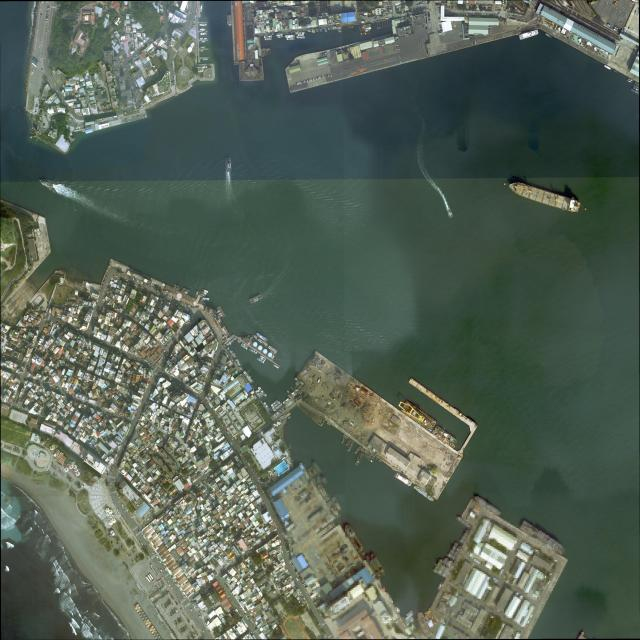large-vehicle: (149, 574, 154, 580), (32, 60, 37, 65), (33, 58, 38, 63), (148, 575, 152, 581), (32, 63, 37, 67), (146, 577, 150, 582), (613, 28, 617, 32), (296, 578, 299, 581), (160, 569, 163, 572), (203, 630, 205, 633), (190, 609, 192, 611)
ship: (507, 179, 581, 214), (432, 429, 456, 449), (434, 425, 458, 444), (413, 485, 435, 502), (394, 471, 412, 487), (519, 29, 539, 40), (37, 177, 53, 189), (346, 439, 355, 453), (256, 332, 268, 342), (249, 295, 262, 303), (258, 386, 267, 397), (364, 453, 373, 463), (273, 403, 282, 412), (360, 447, 370, 455), (271, 401, 280, 409), (270, 399, 279, 407), (354, 446, 362, 454), (263, 402, 270, 411), (311, 355, 318, 364), (359, 25, 364, 37), (227, 15, 232, 27), (226, 158, 230, 172), (257, 357, 265, 364), (255, 390, 262, 398), (604, 64, 612, 71), (631, 88, 639, 95), (313, 357, 320, 365), (346, 438, 352, 447), (283, 397, 290, 404), (545, 32, 552, 39), (448, 209, 453, 218), (284, 34, 295, 38), (241, 344, 248, 350), (250, 348, 257, 354), (260, 354, 267, 360), (272, 363, 279, 369), (257, 389, 263, 396), (376, 457, 383, 463), (315, 360, 321, 367), (198, 292, 206, 297), (182, 287, 190, 292), (242, 342, 248, 348), (633, 83, 639, 89), (633, 86, 639, 92), (259, 357, 266, 362), (200, 290, 207, 295), (173, 286, 180, 291), (181, 289, 188, 294), (347, 25, 355, 29), (261, 49, 265, 57), (201, 297, 209, 301), (198, 301, 206, 305), (195, 291, 199, 299), (295, 31, 305, 34), (369, 455, 375, 460), (202, 288, 208, 293), (613, 69, 619, 74), (364, 24, 371, 28), (200, 299, 207, 303), (626, 79, 633, 83), (200, 4, 203, 13), (634, 81, 639, 86), (264, 35, 272, 38), (277, 33, 283, 37), (297, 36, 305, 39), (364, 27, 372, 30), (363, 32, 371, 35), (263, 48, 266, 56), (628, 78, 634, 82), (199, 23, 207, 26), (174, 284, 180, 288), (265, 48, 268, 55), (341, 26, 348, 29), (362, 25, 365, 32), (267, 47, 270, 54), (200, 32, 207, 35), (321, 361, 325, 366), (326, 422, 331, 426), (286, 38, 295, 40), (287, 416, 291, 420), (200, 28, 205, 31), (287, 389, 290, 394), (365, 30, 372, 32), (269, 47, 271, 54), (265, 38, 272, 40), (298, 34, 304, 36), (200, 46, 206, 48), (311, 31, 316, 33), (278, 36, 283, 38), (319, 30, 323, 32), (338, 31, 342, 33), (338, 30, 342, 32), (82, 130, 85, 132), (308, 30, 311, 32), (203, 59, 208, 60), (319, 29, 323, 30), (328, 29, 331, 30), (312, 30, 315, 31)
small-vehicle: (133, 56, 136, 59), (172, 79, 175, 82), (156, 80, 159, 83), (396, 45, 399, 48), (172, 341, 175, 344), (243, 422, 246, 425), (227, 431, 230, 434), (183, 326, 186, 329), (203, 310, 206, 313), (222, 336, 225, 339), (230, 442, 233, 445), (239, 454, 242, 457), (230, 599, 233, 602), (251, 621, 254, 624), (249, 631, 252, 634), (303, 584, 306, 587), (297, 574, 300, 577), (297, 573, 300, 576), (293, 568, 296, 571), (292, 565, 295, 568), (224, 590, 227, 593), (222, 587, 225, 590), (76, 328, 79, 331), (39, 386, 42, 389), (49, 384, 52, 387), (68, 432, 71, 435), (164, 504, 167, 507), (130, 515, 133, 518), (178, 336, 181, 339), (114, 308, 117, 311), (128, 278, 131, 281), (145, 401, 148, 404), (124, 389, 127, 392), (169, 378, 172, 381), (129, 80, 131, 84), (235, 442, 237, 446), (169, 295, 171, 299), (500, 20, 502, 24), (167, 581, 169, 585), (126, 508, 128, 512), (124, 68, 126, 71), (142, 45, 145, 47), (147, 44, 149, 47), (112, 70, 114, 73), (125, 71, 127, 74), (129, 71, 131, 74), (130, 74, 132, 77), (128, 77, 130, 80), (132, 79, 134, 82), (171, 81, 174, 83), (165, 34, 167, 37), (168, 38, 170, 41), (169, 44, 171, 47), (135, 54, 138, 56), (127, 67, 129, 70), (54, 83, 56, 86), (126, 64, 128, 67), (79, 126, 81, 129), (142, 103, 145, 105), (137, 108, 140, 110), (129, 117, 132, 119), (127, 117, 130, 119), (98, 111, 100, 114), (102, 110, 104, 113), (103, 110, 105, 113), (104, 110, 106, 113), (107, 109, 109, 112), (109, 109, 111, 112), (115, 84, 117, 87), (114, 81, 116, 84), (113, 76, 115, 79), (132, 86, 134, 89), (298, 82, 300, 85), (299, 82, 301, 85), (300, 81, 302, 84), (304, 80, 306, 83), (396, 39, 399, 41), (411, 9, 413, 12), (438, 20, 441, 22), (439, 25, 442, 27), (428, 17, 431, 19), (416, 3, 419, 5), (428, 18, 431, 20), (397, 48, 400, 50), (309, 79, 311, 82), (301, 81, 303, 84), (305, 80, 307, 83), (310, 78, 312, 81), (315, 77, 317, 80), (328, 74, 330, 77), (56, 90, 58, 93), (45, 21, 48, 23), (162, 369, 164, 372), (153, 383, 155, 386), (171, 448, 173, 451), (196, 466, 198, 469), (195, 485, 198, 487), (143, 521, 145, 524), (146, 545, 148, 548), (222, 566, 225, 568), (225, 564, 228, 566), (227, 562, 230, 564), (224, 471, 226, 474), (214, 353, 217, 355), (220, 354, 222, 357), (242, 421, 245, 423), (221, 424, 223, 427), (223, 425, 225, 428), (172, 337, 174, 340), (170, 296, 172, 299), (172, 296, 174, 299), (100, 290, 102, 293), (101, 287, 103, 290), (104, 277, 106, 280), (84, 305, 87, 307), (186, 309, 189, 311), (213, 321, 215, 324), (216, 326, 218, 329), (222, 334, 224, 337), (191, 317, 194, 319), (190, 305, 192, 308), (193, 306, 195, 309), (195, 305, 197, 308), (228, 595, 230, 598), (229, 597, 231, 600), (238, 603, 240, 606), (244, 612, 246, 615), (246, 615, 248, 618), (250, 618, 252, 621), (242, 634, 244, 637), (323, 618, 325, 621), (320, 613, 322, 616), (295, 572, 298, 574), (290, 562, 293, 564), (289, 561, 292, 563), (230, 591, 232, 594), (274, 414, 276, 417), (275, 415, 277, 418), (312, 387, 314, 390), (314, 385, 316, 388), (281, 409, 283, 412), (224, 583, 226, 586), (253, 455, 255, 458), (256, 460, 258, 463), (259, 464, 261, 467), (248, 463, 250, 466), (258, 477, 261, 479), (258, 479, 260, 482), (281, 550, 283, 553), (51, 322, 53, 325), (96, 299, 98, 302), (102, 298, 105, 300), (36, 346, 38, 349), (35, 349, 37, 352), (28, 365, 30, 368), (74, 399, 77, 401), (13, 400, 15, 403), (14, 397, 16, 400), (143, 525, 145, 528), (147, 518, 149, 521), (58, 325, 60, 328), (216, 574, 218, 577), (163, 297, 166, 299), (206, 589, 208, 592), (460, 35, 463, 37), (512, 15, 515, 17), (488, 29, 491, 31), (634, 10, 636, 13), (196, 607, 198, 610), (197, 608, 199, 611), (152, 551, 154, 554), (170, 587, 173, 589), (176, 594, 178, 597), (160, 508, 162, 511), (180, 332, 182, 335), (115, 275, 118, 277), (125, 280, 128, 282), (125, 274, 127, 277), (134, 282, 137, 284), (134, 284, 137, 286), (125, 313, 127, 316), (99, 307, 101, 310), (128, 511, 130, 514), (125, 506, 127, 509), (117, 493, 119, 496), (118, 496, 120, 499), (104, 474, 107, 476), (112, 468, 114, 471), (114, 460, 116, 463), (186, 492, 188, 495), (161, 357, 163, 360), (120, 414, 123, 416), (129, 389, 132, 391), (147, 362, 150, 364), (179, 383, 181, 386), (166, 354, 168, 357), (285, 541, 287, 543), (172, 77, 174, 79), (193, 26, 195, 28), (139, 106, 141, 108), (106, 110, 108, 112), (396, 44, 398, 46), (439, 21, 441, 23), (428, 13, 430, 15), (319, 77, 321, 79), (306, 80, 308, 82), (314, 78, 316, 80), (324, 75, 326, 77), (329, 74, 331, 76), (46, 13, 48, 15), (46, 17, 48, 19), (47, 12, 49, 14), (185, 330, 187, 332), (174, 446, 176, 448), (220, 461, 222, 463), (205, 477, 207, 479), (223, 472, 225, 474), (239, 415, 241, 417), (189, 313, 191, 315), (190, 322, 192, 324), (182, 333, 184, 335), (186, 304, 188, 306), (190, 313, 192, 315), (249, 631, 251, 633), (303, 583, 305, 585), (293, 567, 295, 569), (292, 564, 294, 566), (289, 560, 291, 562), (300, 392, 302, 394), (271, 417, 273, 419), (275, 414, 277, 416), (245, 459, 247, 461), (262, 485, 264, 487), (287, 550, 289, 552), (166, 293, 167, 297), (66, 326, 68, 328), (77, 332, 79, 334), (103, 301, 105, 303), (100, 342, 102, 344), (36, 382, 38, 384), (42, 387, 44, 389), (43, 388, 45, 390), (141, 543, 143, 545), (163, 510, 165, 512), (166, 508, 168, 510), (483, 10, 485, 12), (628, 27, 630, 29), (620, 22, 622, 24), (194, 605, 195, 609), (198, 610, 200, 612), (177, 597, 179, 599), (205, 591, 207, 593), (179, 331, 181, 333), (156, 292, 158, 294), (118, 314, 120, 316), (98, 405, 100, 407), (176, 495, 178, 497), (174, 497, 176, 499), (122, 504, 124, 506), (95, 404, 97, 406), (101, 406, 103, 408), (126, 390, 128, 392), (173, 382, 175, 384), (131, 83, 132, 86), (170, 64, 173, 65), (136, 47, 137, 50), (163, 17, 164, 20), (297, 82, 298, 85), (76, 126, 77, 129), (69, 123, 72, 124), (100, 111, 101, 114), (101, 110, 102, 113), (421, 2, 424, 3), (419, 4, 422, 5), (460, 32, 463, 33), (428, 21, 431, 22), (427, 12, 430, 13), (446, 6, 447, 9), (312, 78, 313, 81), (313, 78, 314, 81), (318, 76, 319, 79), (326, 74, 327, 77), (327, 74, 328, 77), (93, 5, 94, 8), (91, 9, 92, 12), (47, 8, 50, 9), (40, 14, 43, 15), (45, 20, 48, 21), (45, 19, 48, 20), (288, 558, 291, 559), (155, 380, 156, 383), (210, 362, 213, 363), (168, 295, 169, 298), (189, 312, 190, 315), (104, 280, 105, 283), (189, 305, 190, 308), (215, 324, 216, 327), (180, 300, 181, 303), (192, 306, 193, 309), (190, 315, 193, 316), (232, 438, 233, 441), (307, 603, 308, 606), (454, 6, 455, 9), (102, 300, 105, 301), (455, 6, 456, 9), (488, 27, 491, 28), (504, 22, 505, 25), (502, 7, 503, 10), (488, 28, 491, 29), (503, 7, 504, 10), (128, 275, 129, 278), (133, 278, 134, 281), (134, 278, 135, 281), (137, 279, 138, 282), (138, 280, 139, 283), (141, 281, 142, 284), (143, 282, 144, 285), (146, 283, 147, 286), (147, 284, 148, 287), (151, 286, 152, 289), (159, 374, 162, 375), (127, 75, 128, 77), (193, 21, 195, 22), (193, 22, 195, 23), (193, 25, 195, 26), (125, 118, 127, 119), (137, 115, 139, 116), (134, 110, 136, 111), (117, 92, 118, 94), (114, 79, 115, 81), (396, 37, 398, 38), (422, 3, 424, 4), (438, 19, 440, 20), (439, 23, 441, 24), (440, 28, 442, 29), (428, 16, 430, 17), (428, 15, 430, 16), (444, 6, 445, 8), (447, 6, 448, 8), (448, 6, 449, 8), (386, 18, 388, 19), (303, 81, 304, 83), (317, 77, 318, 79), (321, 76, 322, 78), (451, 6, 452, 8), (47, 9, 49, 10), (47, 11, 49, 12), (46, 16, 48, 17), (449, 6, 450, 8), (452, 6, 453, 8), (172, 452, 173, 454), (289, 559, 291, 560), (276, 413, 277, 415), (103, 297, 105, 298), (138, 530, 139, 532), (475, 10, 477, 11), (499, 11, 501, 12), (498, 13, 500, 14), (129, 276, 130, 278), (136, 279, 137, 281), (142, 282, 143, 284), (145, 283, 146, 285), (149, 285, 150, 287), (150, 286, 151, 288), (135, 425, 136, 427)
storage-tank: (253, 342, 258, 347), (258, 346, 263, 351), (263, 349, 268, 354), (268, 353, 272, 357), (329, 16, 331, 18), (331, 15, 333, 17)
